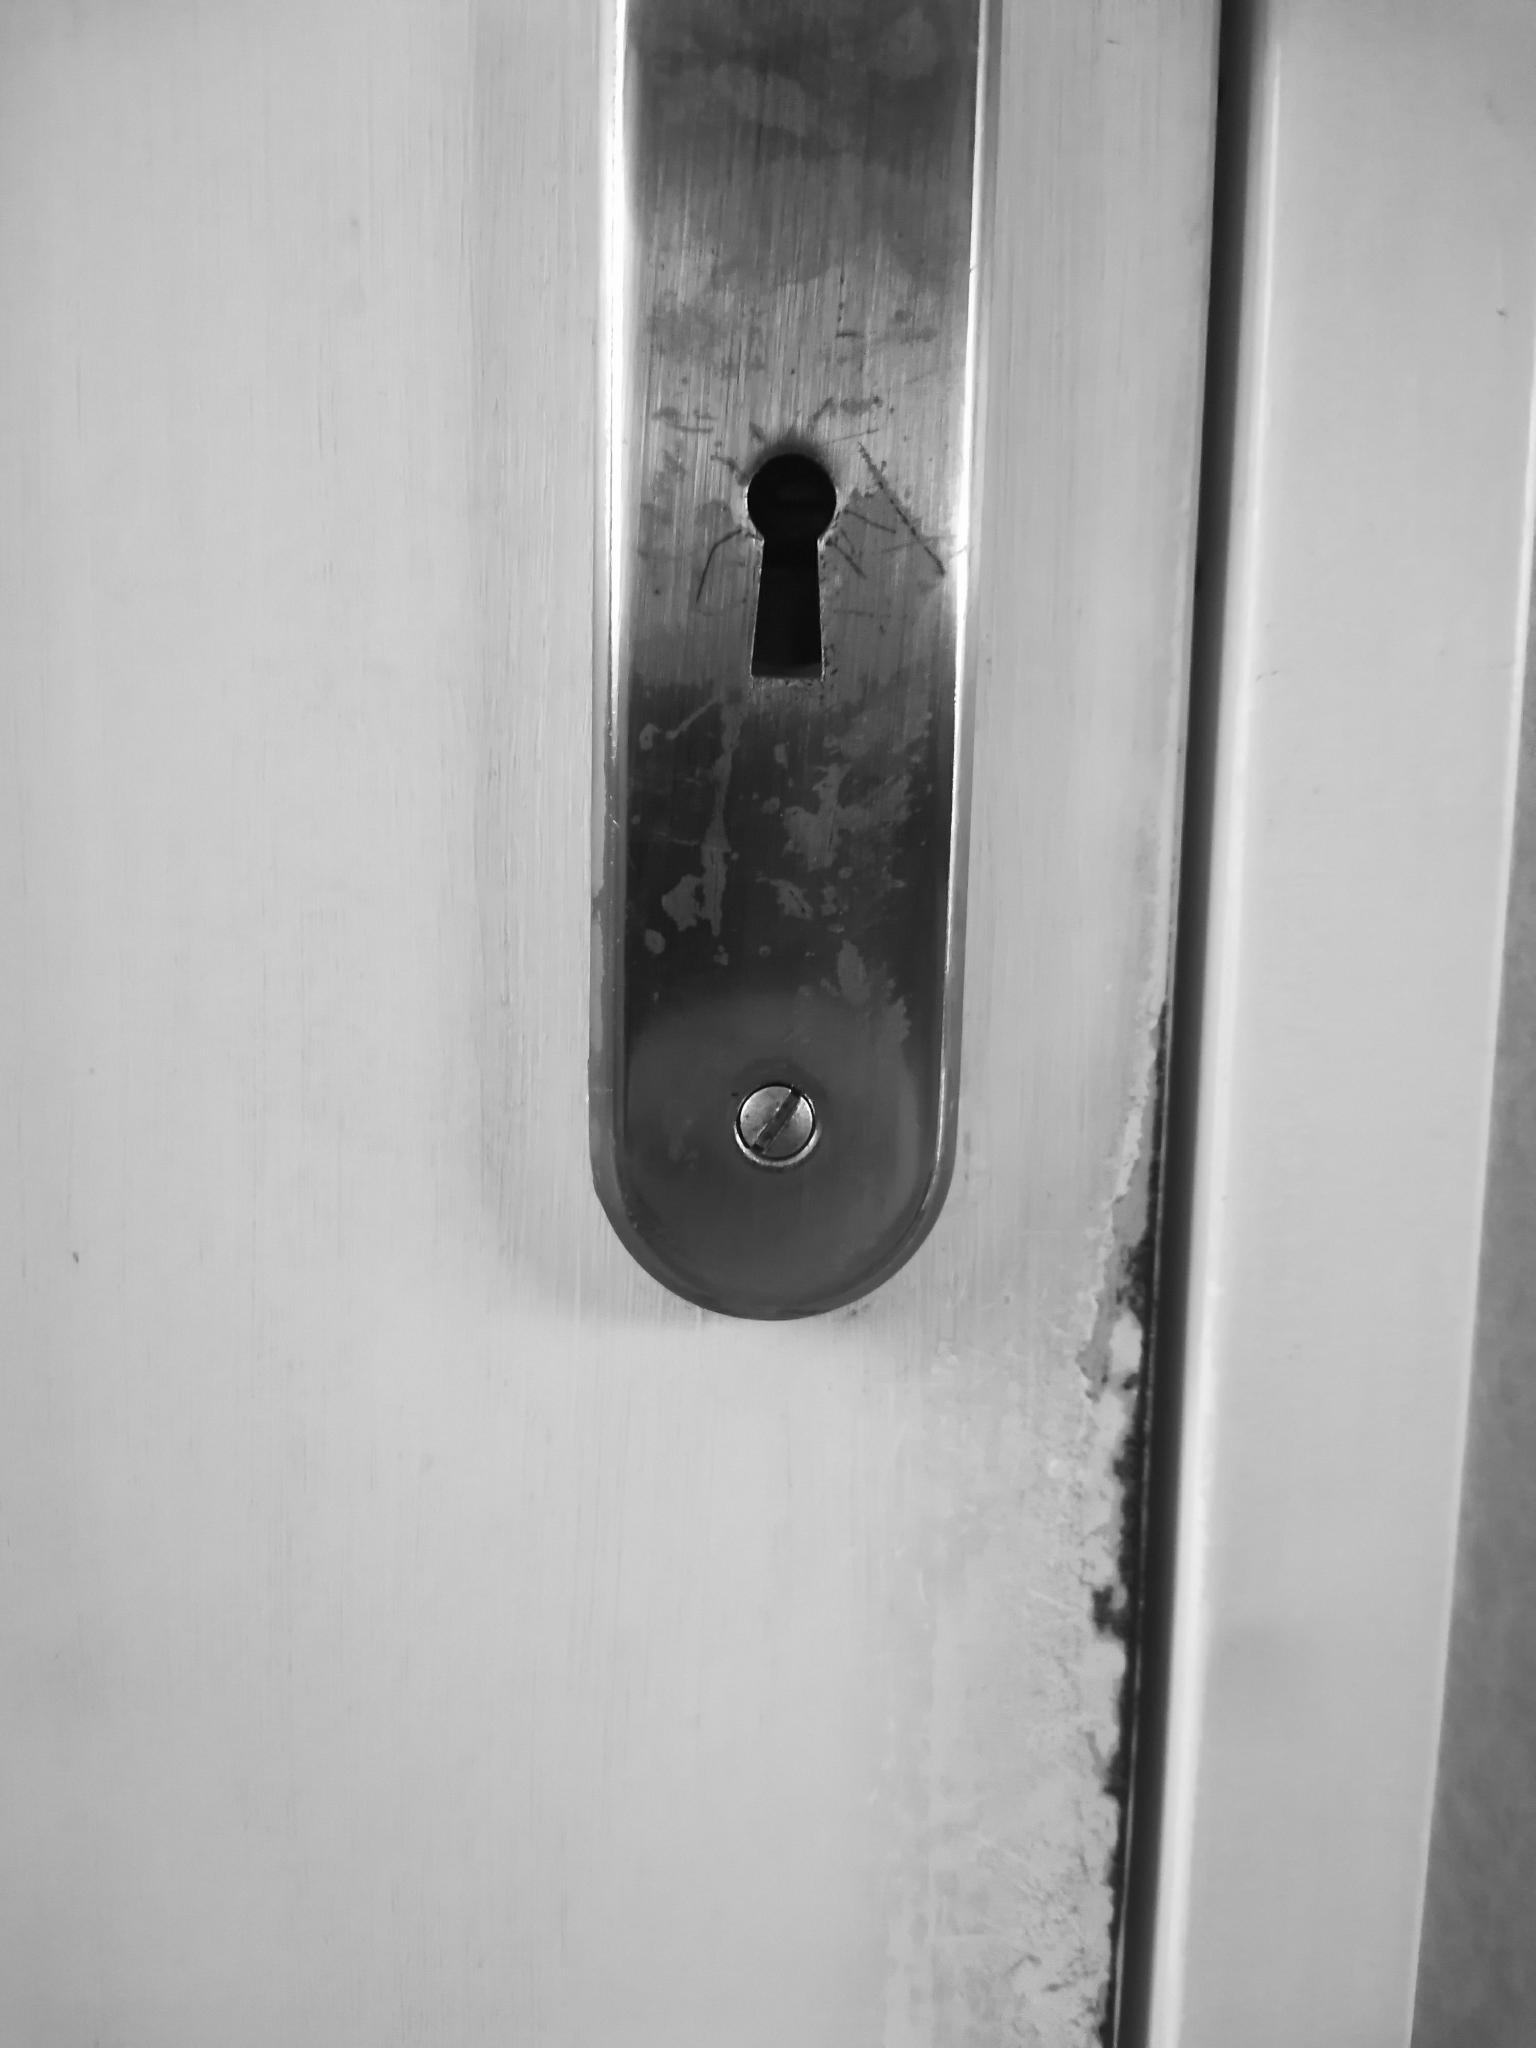screw: (723, 1084, 828, 1172)
